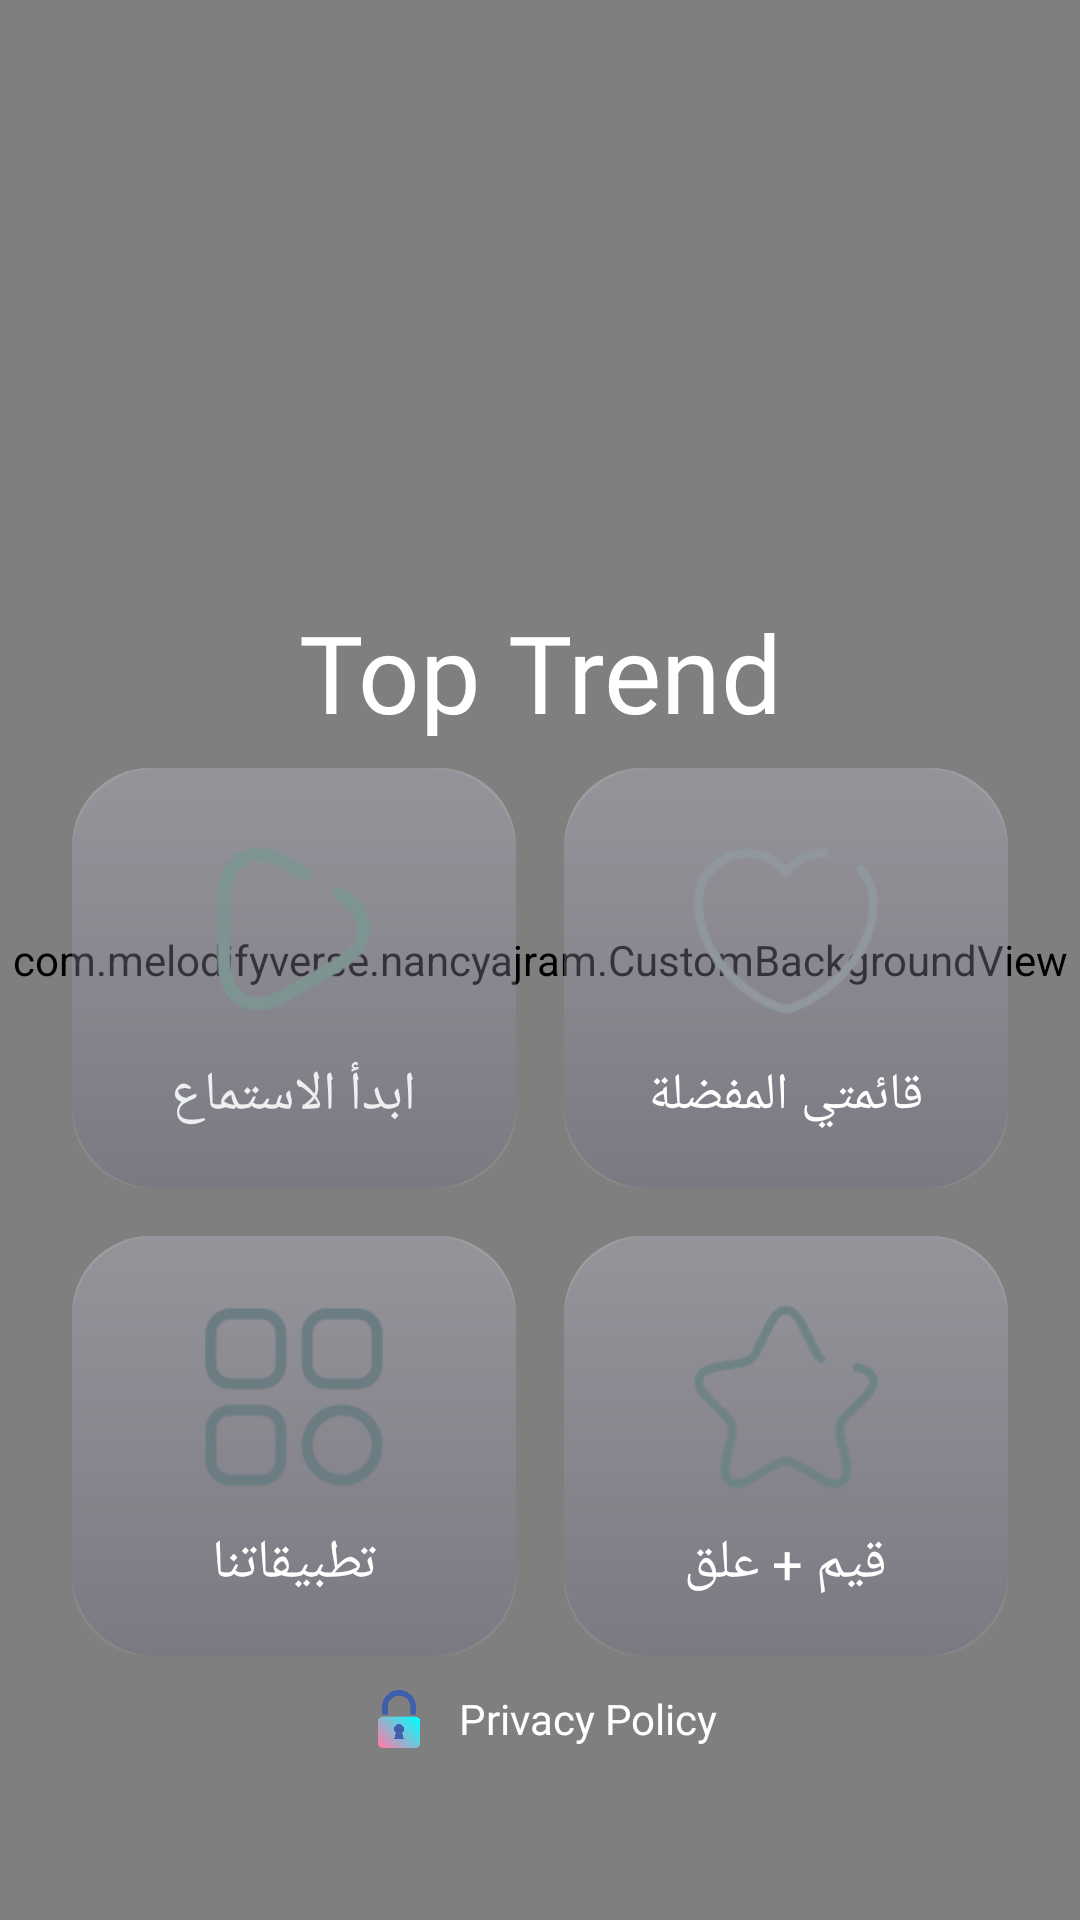

Icons on this 1080×1920 Android screen, each with the point to tap as point (x, y):
moreapps: point (294, 1397)
privacyicon: point (399, 1719)
